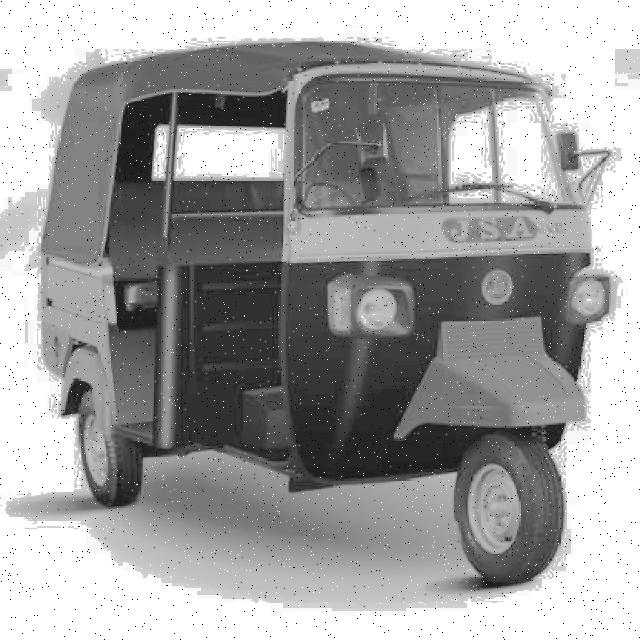Auto-Rickshaw: (29, 45, 612, 596)
